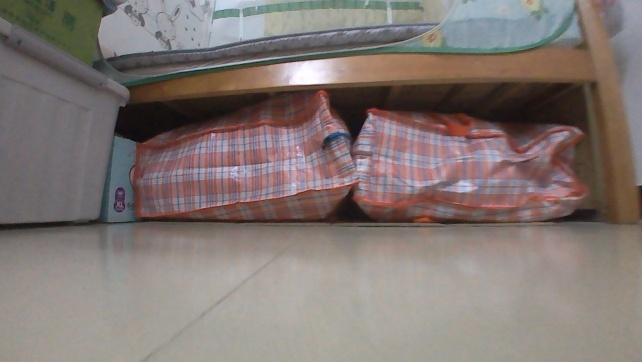bed1: (99, 0, 641, 228)
